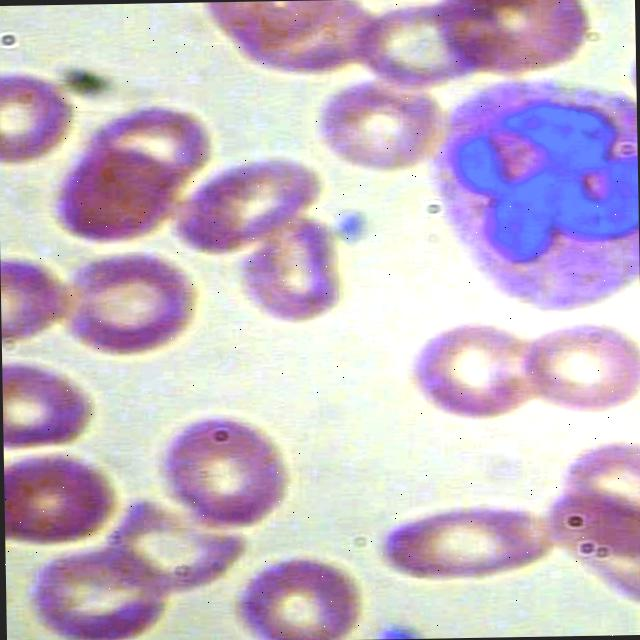Platelets: (332, 211, 374, 254), (376, 625, 424, 639)
RBC: (48, 247, 204, 361), (151, 410, 289, 530), (169, 154, 331, 252), (228, 215, 360, 332), (402, 320, 542, 428), (372, 502, 560, 582), (27, 542, 176, 640), (312, 73, 442, 181), (42, 147, 174, 250), (522, 320, 640, 423), (2, 446, 119, 548), (233, 553, 370, 640), (352, 2, 479, 90), (0, 358, 99, 450), (0, 62, 75, 170)
WBC: (418, 57, 640, 327)
